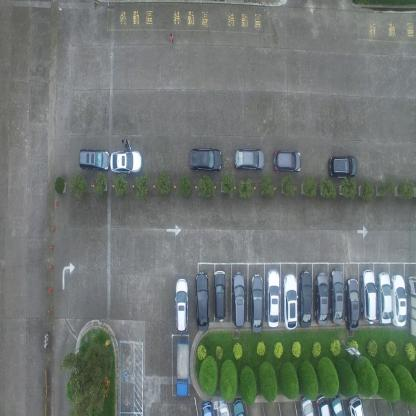car: (360, 268, 376, 326), (282, 273, 298, 331), (189, 146, 222, 174), (175, 338, 190, 398), (265, 268, 280, 328), (329, 267, 344, 326), (392, 273, 408, 328), (78, 146, 110, 173), (376, 271, 392, 324), (195, 272, 209, 332), (231, 272, 246, 328), (110, 147, 142, 173), (298, 270, 312, 329), (345, 278, 360, 333), (175, 277, 189, 332), (314, 271, 328, 326), (250, 275, 263, 334), (272, 148, 302, 173), (234, 147, 265, 171), (213, 270, 227, 322), (328, 154, 358, 178), (408, 273, 416, 338), (328, 391, 344, 416), (348, 394, 364, 416), (298, 394, 314, 416), (315, 394, 330, 415), (232, 398, 246, 416), (200, 400, 215, 416), (216, 400, 229, 415)
